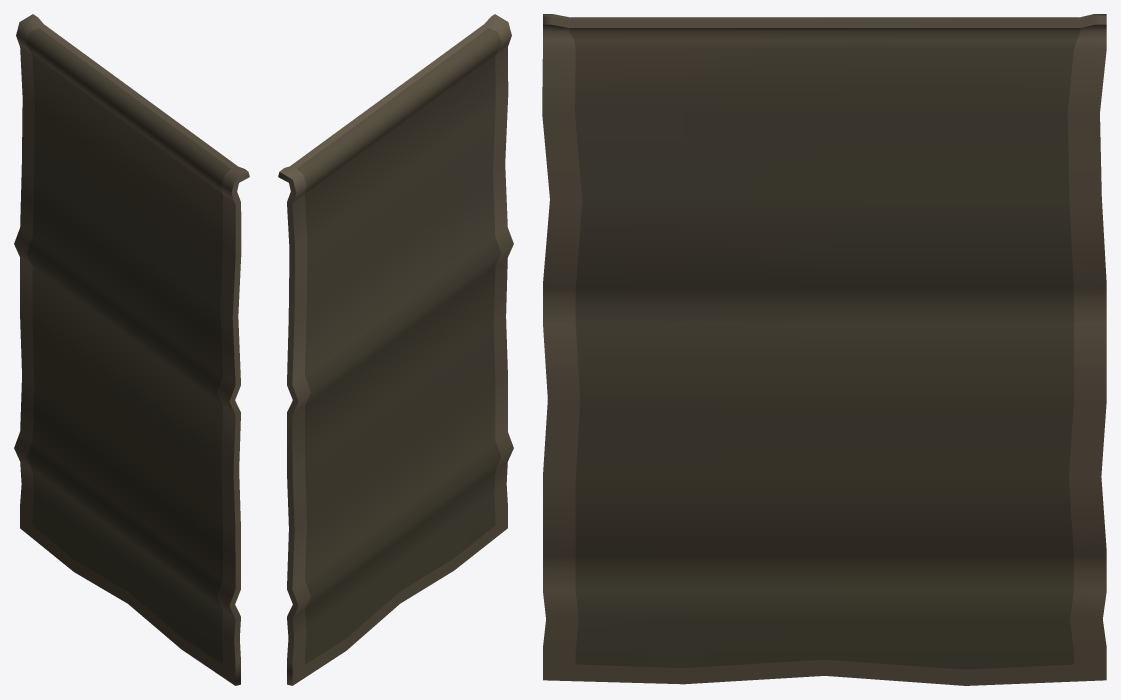
The model's file is Scaffold_sheet_1_4.fbx.
3 renders of one model, left to right at view 1: azimuth 30°, elevation 25°; view 2: azimuth 150°, elevation 25°; view 3: azimuth 270°, elevation 25°, orthographic. The views are drawn at different scales.
Parts seen in each view (by area): view 1: Scaffold_sheet_1_4; view 2: Scaffold_sheet_1_4; view 3: Scaffold_sheet_1_4.
Part boxes in pixels (<box>): Scaffold_sheet_1_4: <box>14,14,249,685</box>; Scaffold_sheet_1_4: <box>278,14,513,685</box>; Scaffold_sheet_1_4: <box>542,14,1106,685</box>.
Size of the model in its own units: 10.1 by 242 by 184.
